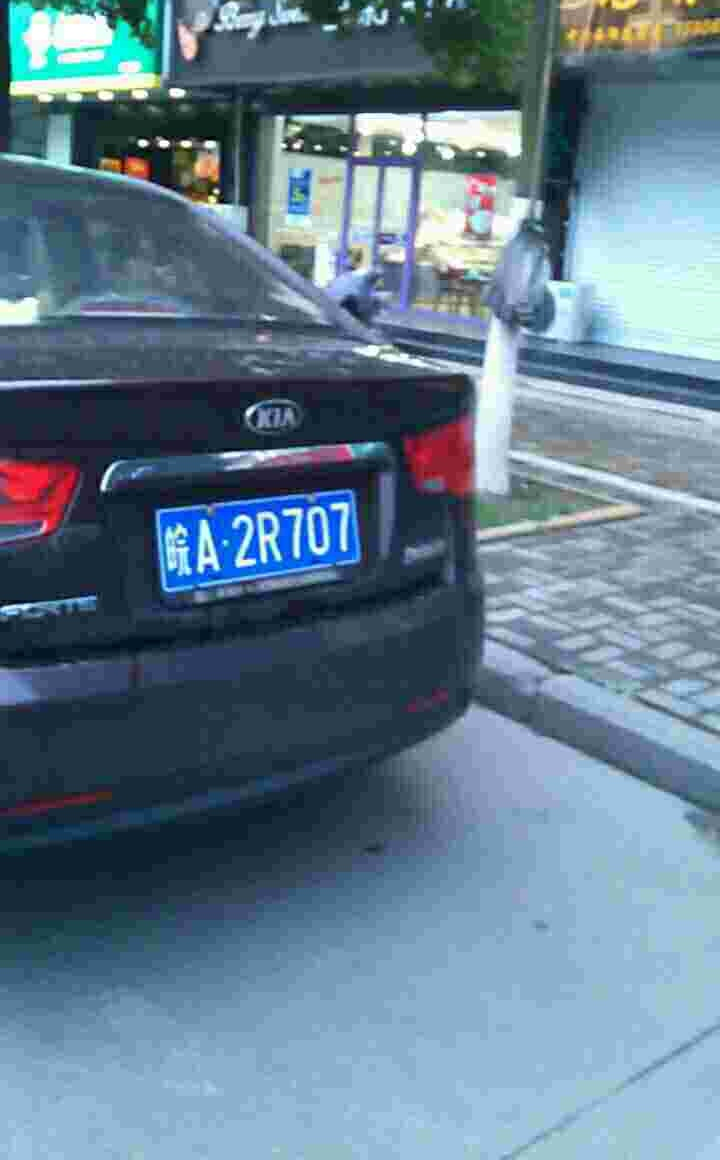license_plate: (165, 492, 372, 604)
